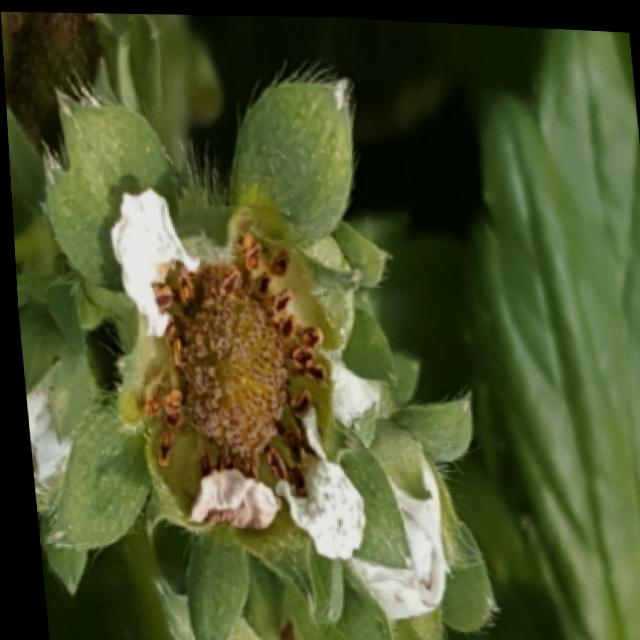Blossom Blight: (126, 223, 336, 523)
